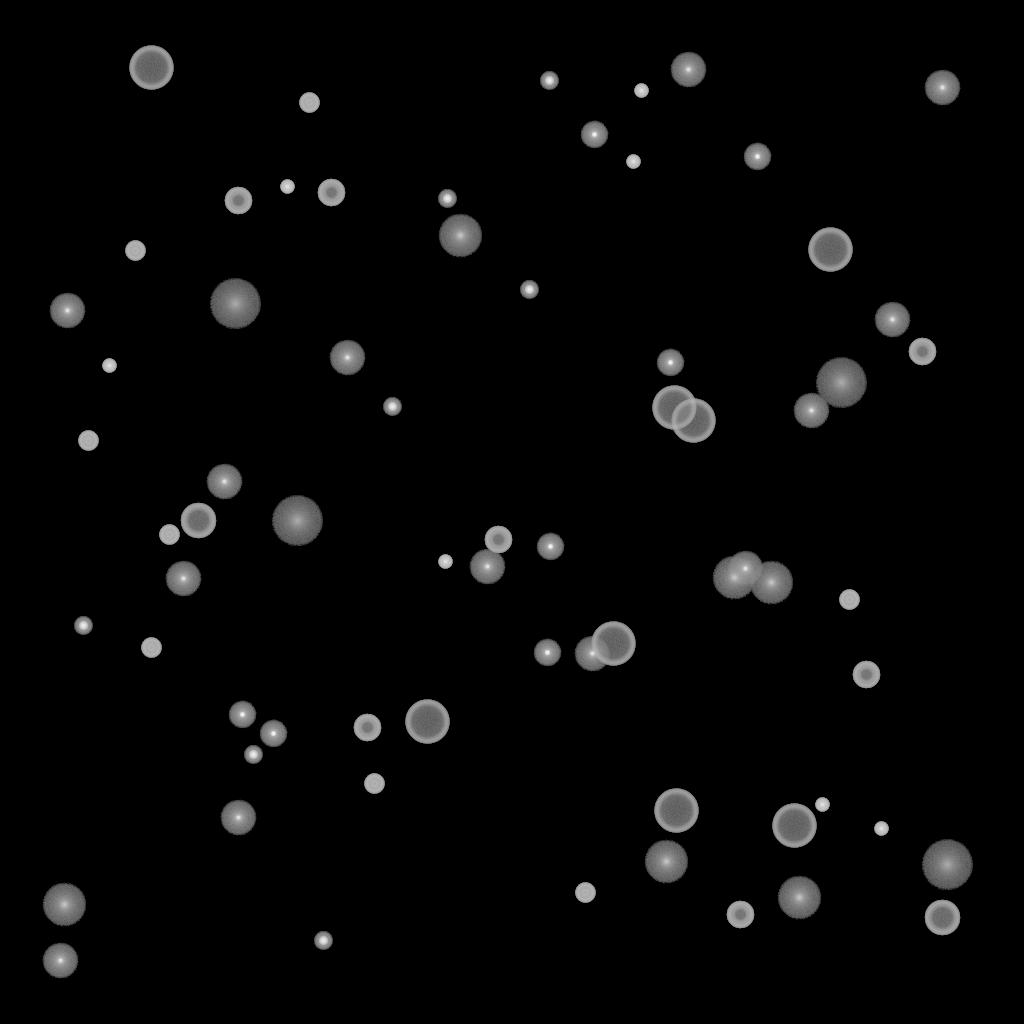depth:-10: (580, 121, 608, 149), (259, 720, 287, 748), (533, 639, 561, 667), (656, 349, 684, 377), (228, 701, 256, 729), (536, 533, 564, 561), (743, 143, 771, 171)
depth:-20: (438, 190, 456, 208), (540, 72, 558, 90), (383, 398, 401, 416), (74, 617, 92, 635), (314, 932, 332, 950), (520, 281, 538, 299), (244, 746, 262, 764)
depth:-30: (280, 180, 294, 194), (626, 155, 640, 169), (815, 798, 829, 812), (438, 555, 452, 569), (634, 84, 648, 98), (874, 822, 888, 836), (102, 359, 116, 373)
depth:-40: (159, 525, 179, 545), (141, 638, 161, 658), (364, 774, 384, 794), (839, 590, 859, 610), (575, 883, 595, 903), (78, 431, 98, 451), (125, 241, 145, 261), (299, 93, 319, 113)
depth:-50: (726, 901, 754, 929), (908, 338, 936, 366), (317, 179, 345, 207), (484, 526, 512, 554), (353, 714, 381, 742), (224, 187, 252, 215), (852, 661, 880, 689)
depth:-60: (180, 503, 216, 539), (924, 900, 960, 936)
depth:-70: (808, 228, 852, 272), (671, 399, 715, 443), (772, 804, 816, 848), (591, 622, 635, 666), (129, 46, 173, 90), (405, 700, 449, 744), (654, 789, 698, 833), (652, 386, 696, 430)
depth:0: (727, 551, 763, 587), (49, 293, 85, 329), (220, 800, 256, 836), (469, 549, 505, 585), (574, 636, 610, 672), (670, 52, 706, 88), (329, 340, 365, 376), (874, 302, 910, 338), (165, 561, 201, 597), (206, 464, 242, 500), (793, 393, 829, 429), (42, 943, 78, 979), (924, 70, 960, 106)
depth:10: (42, 883, 86, 927), (749, 561, 793, 605), (777, 876, 821, 920), (712, 556, 756, 600), (644, 840, 688, 884), (438, 214, 482, 258)
depth:20: (815, 358, 867, 408), (921, 840, 973, 890), (271, 496, 323, 546), (209, 279, 261, 329)
